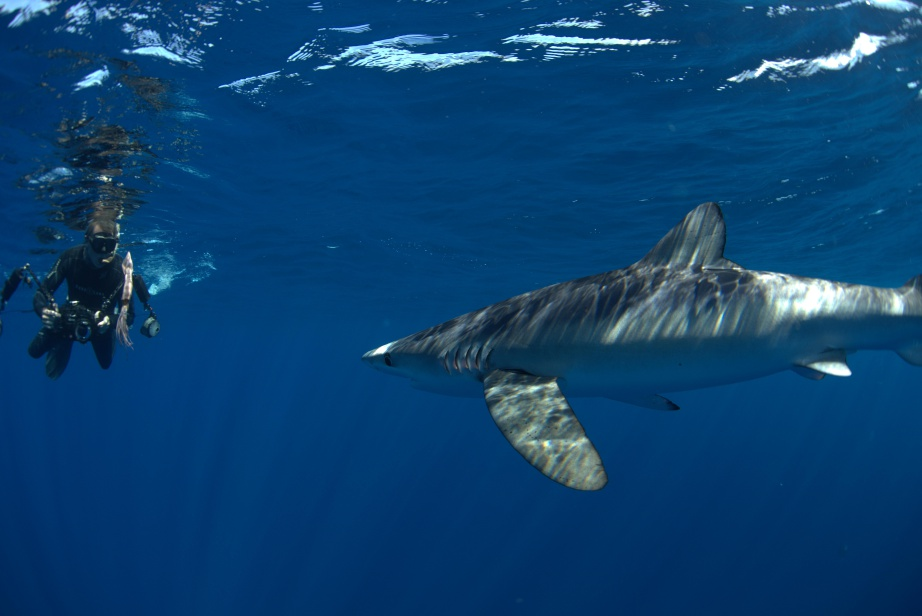Azul: (345, 195, 922, 503)
